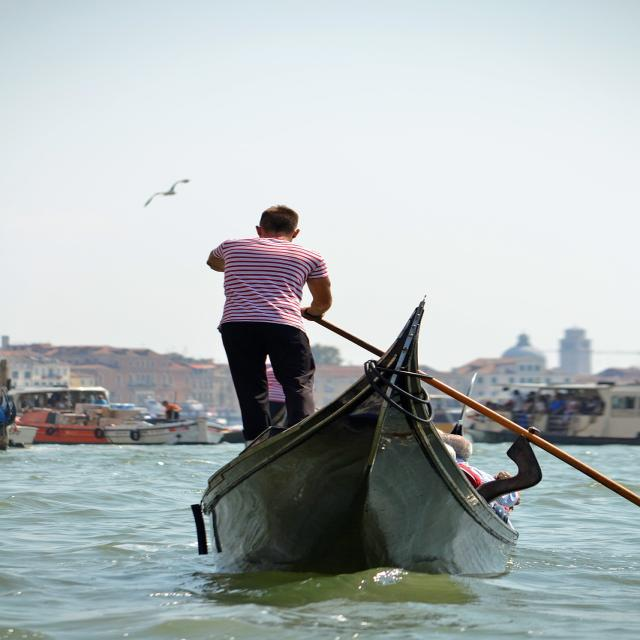boat: (171, 265, 553, 621)
